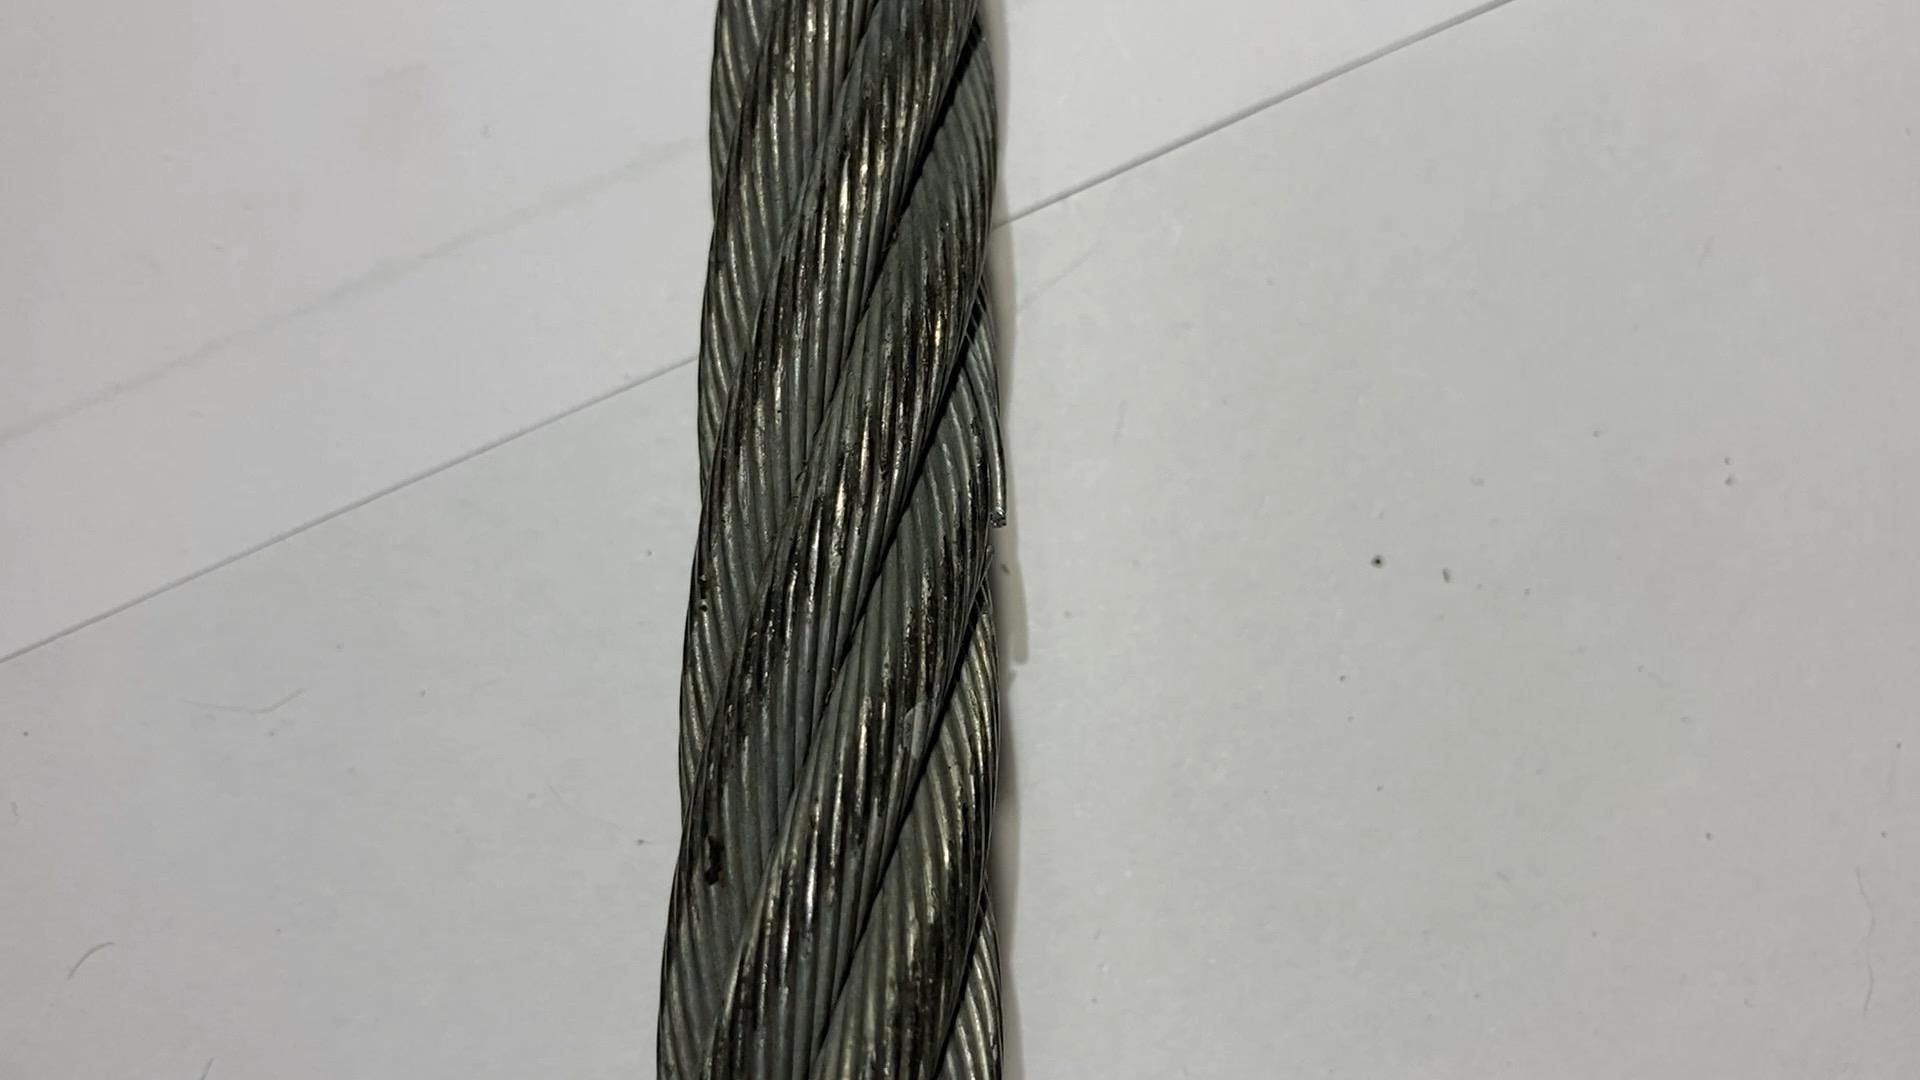break: (945, 347, 1025, 524)
